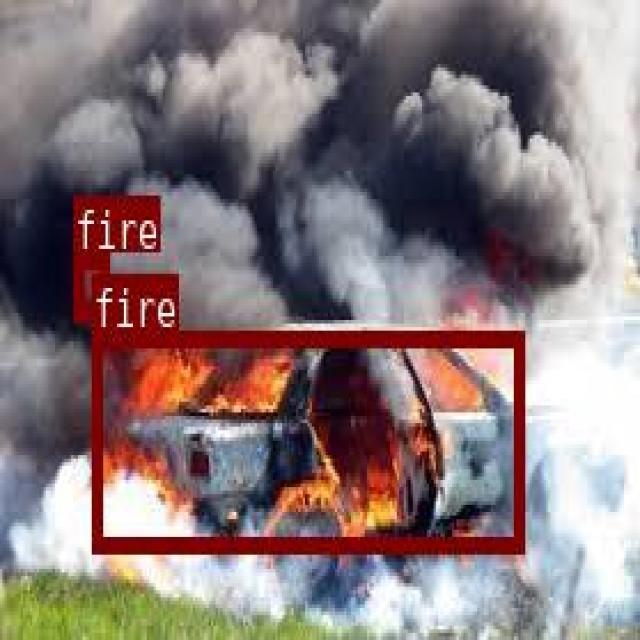fire: (91, 329, 522, 548), (71, 251, 107, 320)
